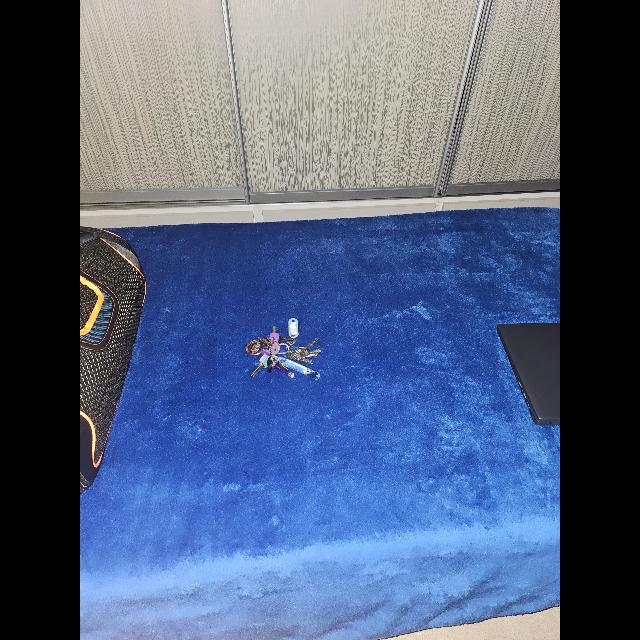Keys: (247, 324, 323, 380)
